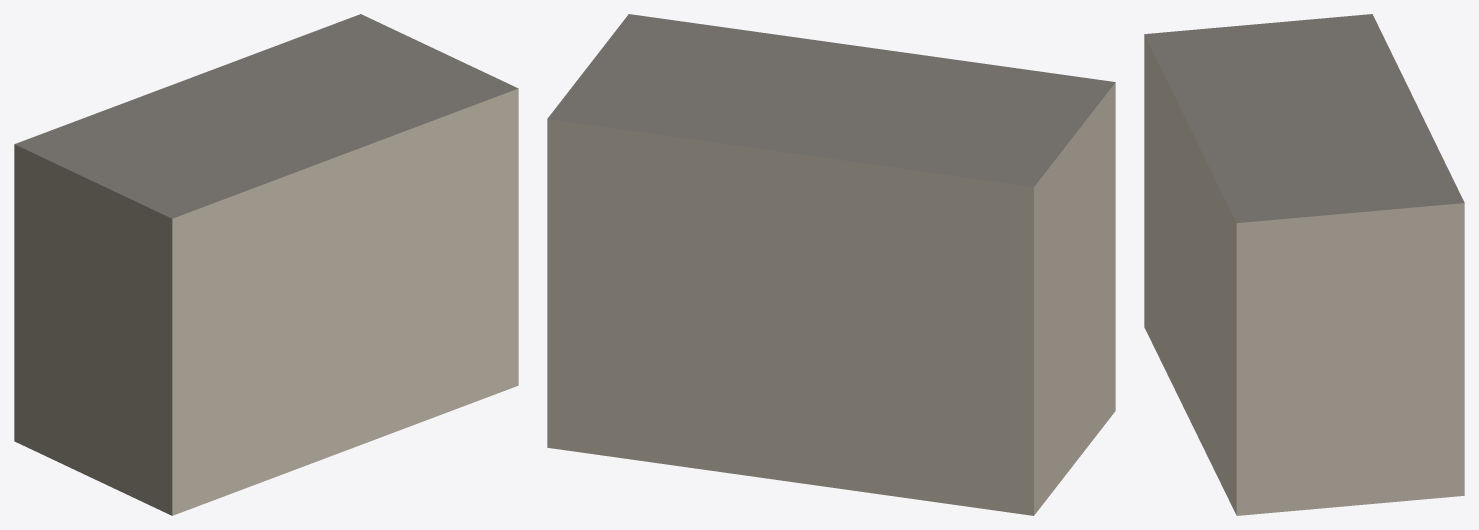
The picture shows the model from 3 angles, left to right: view 1: azimuth 30°, elevation 25°; view 2: azimuth 150°, elevation 25°; view 3: azimuth 270°, elevation 25°; orthographic projection. The views are drawn at different scales.
Parts seen in each view (by area): view 1: HP-w1424106435; view 2: HP-w1424106435; view 3: HP-w1424106435.
Part boxes in pixels (left/top/right/bottom): HP-w1424106435: left=14, top=14, right=518, bottom=515; HP-w1424106435: left=547, top=14, right=1115, bottom=515; HP-w1424106435: left=1144, top=14, right=1464, bottom=515.
Size of the model in its own units: 18.39 by 12 by 11.91.
